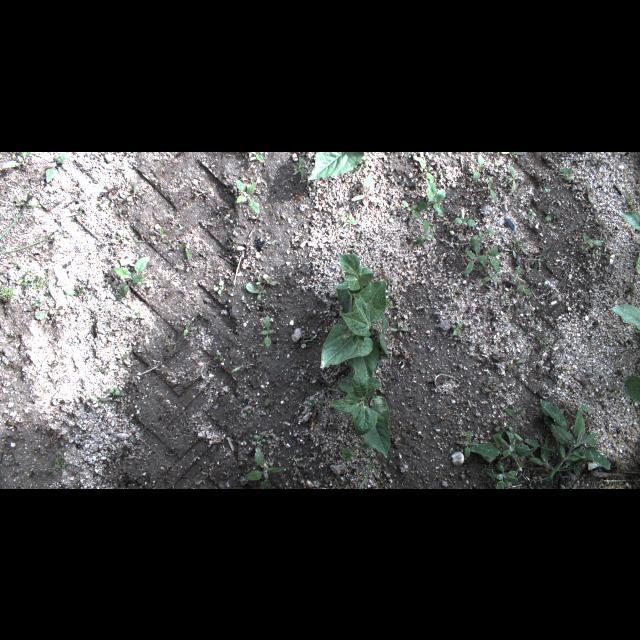crop: (322, 250, 392, 462), (609, 300, 639, 418), (306, 152, 366, 186)
weed: (469, 400, 616, 484), (1, 186, 64, 300), (105, 254, 151, 298), (465, 232, 505, 280), (242, 444, 286, 486), (474, 157, 502, 210), (236, 266, 276, 302), (351, 168, 384, 206), (234, 173, 260, 213), (424, 170, 446, 216), (454, 428, 488, 454), (44, 154, 70, 186), (290, 156, 314, 182), (511, 232, 534, 258), (453, 208, 482, 228), (258, 317, 276, 349), (418, 216, 439, 242), (396, 198, 419, 220), (579, 232, 611, 246), (558, 163, 574, 184)
